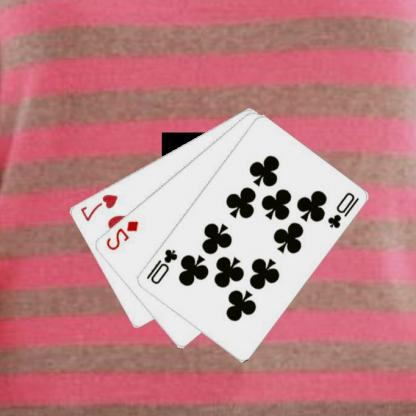10C: (326, 189, 362, 230), (144, 246, 180, 286)
2D: (104, 218, 142, 252)
7H: (78, 191, 121, 223)
